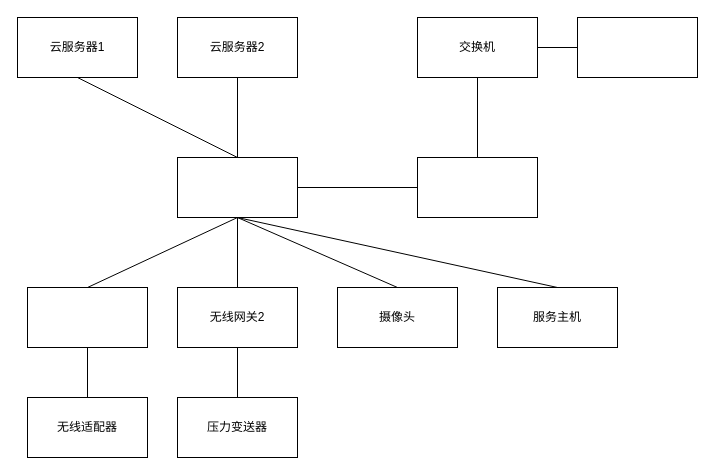
Image size: 715x475. Some labels were removed from this diagram. Here are the shapes that lost their labels. From the top down, the centre of each, then its label:
(637,47): AIPID网关
(237,187): 测试主机1
(477,187): 测试主机2
(87,317): 无线网关1
